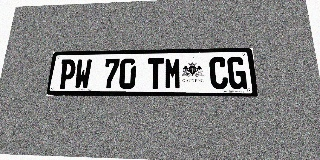0: (118, 58, 136, 89)
7: (102, 59, 120, 89)
C: (209, 57, 228, 89)
G: (227, 57, 247, 89)
M: (164, 58, 181, 89)
P: (58, 59, 77, 89)
T: (147, 58, 164, 89)
W: (74, 59, 92, 89)
